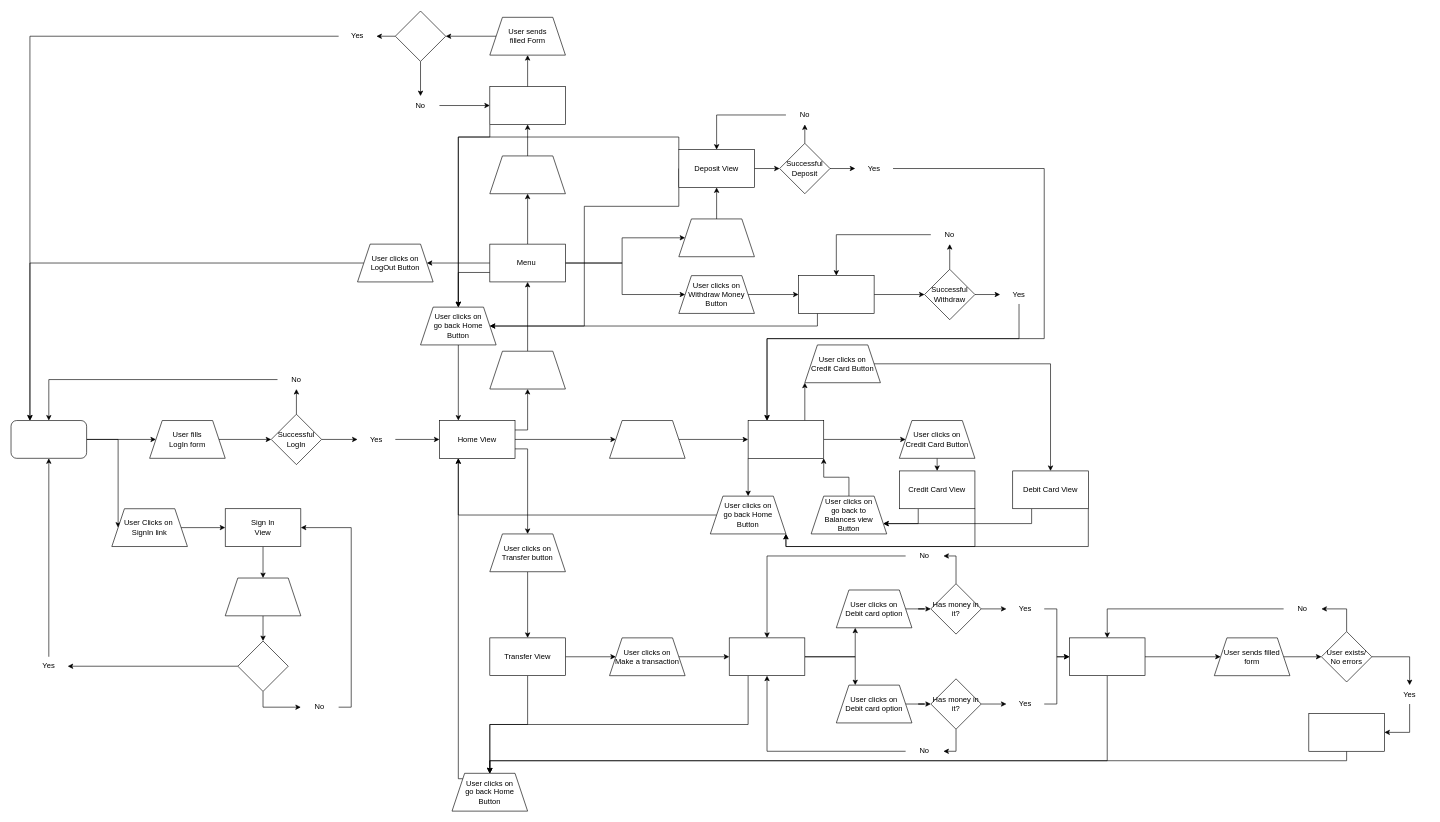
Image size: 1440x822. Some labels were removed from this diagram. The shapes that lost their labels are listed below. From the top down, each one's centre as x and y in pixels, then its label:
At [420,35]: "Successful update".
At [527,105]: "Update Profile View".
At [527,174]: "User clicks on update profile".
At [716,237]: "User clicks on Make a Deposit Button".
At [836,294]: "Withdraw View".
At [527,370]: "User clicks on Profile Settings".
At [48,439]: "Welcome + Login View".
At [647,439]: "User clicks on total balance".
At [785,439]: "Balances View".
At [263,596]: "User fills SignIn form".
At [262,665]: "Successful Register".
At [767,656]: "Transaction view".
At [1107,656]: "Reviever View".
At [1346,732]: "Successful transaction View".
